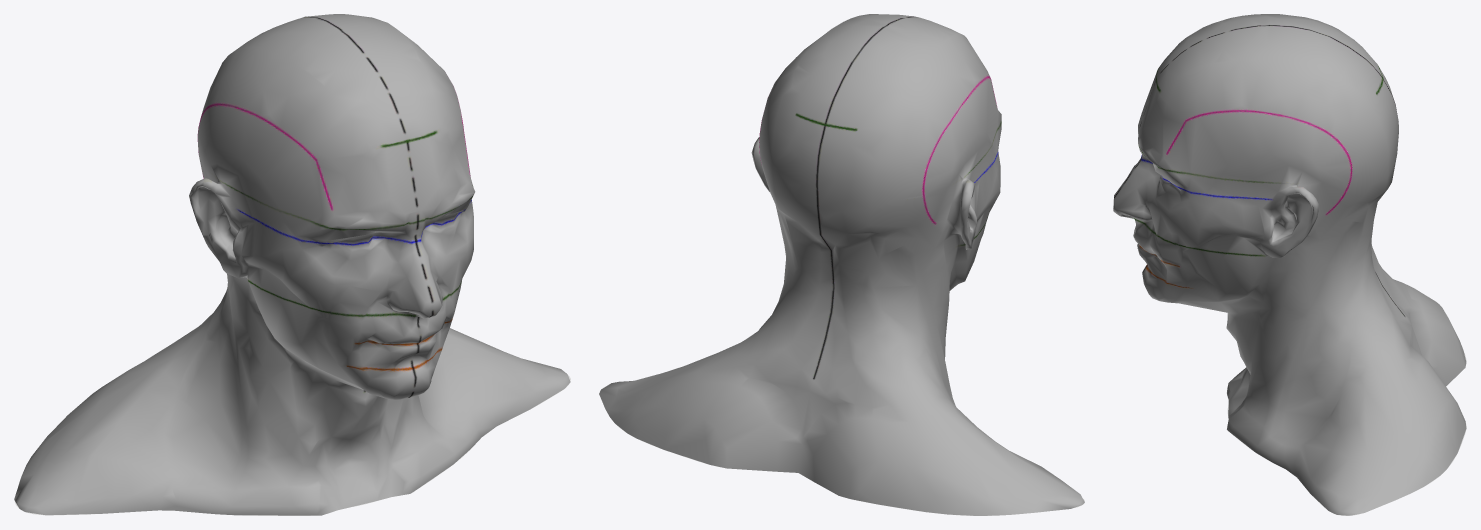
Rendered from 头像_带标注.glb.
3 views of the same model, side by side, from view 1: azimuth 30°, elevation 25°; view 2: azimuth 150°, elevation 25°; view 3: azimuth 270°, elevation 25° (orthographic). The views are drawn at different scales.
Visible parts, largest first — view 1: Helmet_4_LowPoGood; view 2: Helmet_4_LowPoGood; view 3: Helmet_4_LowPoGood.
Part boxes in pixels (x1,y1,x2,y2): Helmet_4_LowPoGood: (14,14,570,515); Helmet_4_LowPoGood: (599,14,1084,515); Helmet_4_LowPoGood: (1113,14,1466,515).
Bounding box in the file's own units: 0.5029 × 0.4 × 0.3316.
Materials: 2 (1 with a texture image).
